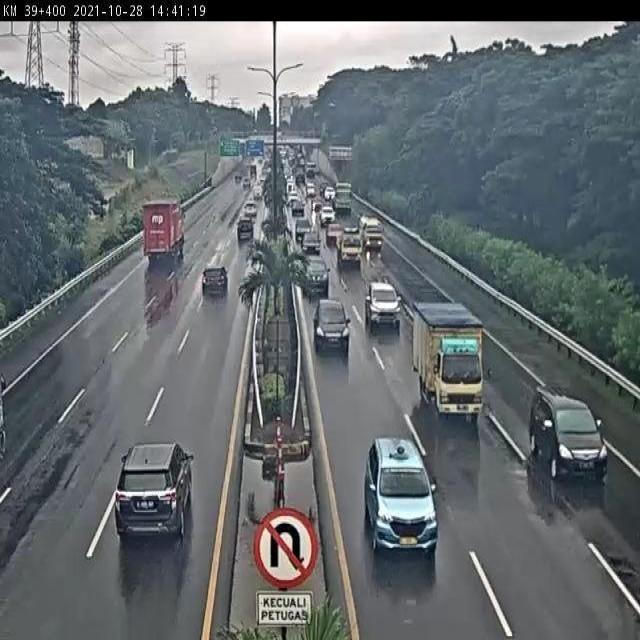Car: (364, 435, 438, 556), (114, 440, 194, 540), (530, 388, 607, 482), (313, 297, 351, 355), (365, 281, 402, 334), (299, 256, 329, 297), (203, 263, 233, 304), (301, 230, 321, 256), (294, 218, 310, 244), (237, 218, 254, 242), (320, 205, 334, 225), (291, 198, 305, 217), (243, 201, 257, 219), (287, 188, 298, 205), (324, 185, 335, 201), (252, 184, 262, 200), (286, 179, 295, 194), (306, 184, 315, 198), (242, 176, 250, 188)
Truck: (409, 294, 483, 419), (142, 199, 185, 268), (359, 215, 384, 253), (339, 233, 363, 267), (334, 182, 352, 214)
